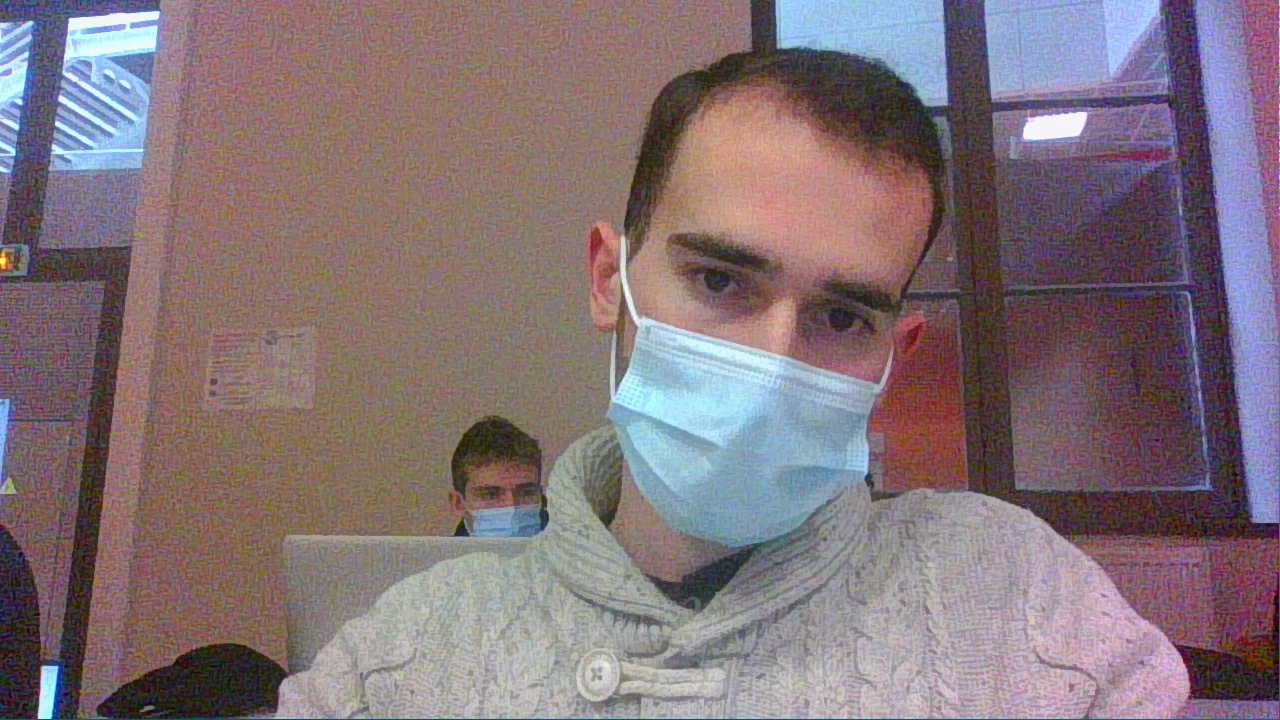mask: (575, 44, 927, 543), (451, 415, 541, 532)
